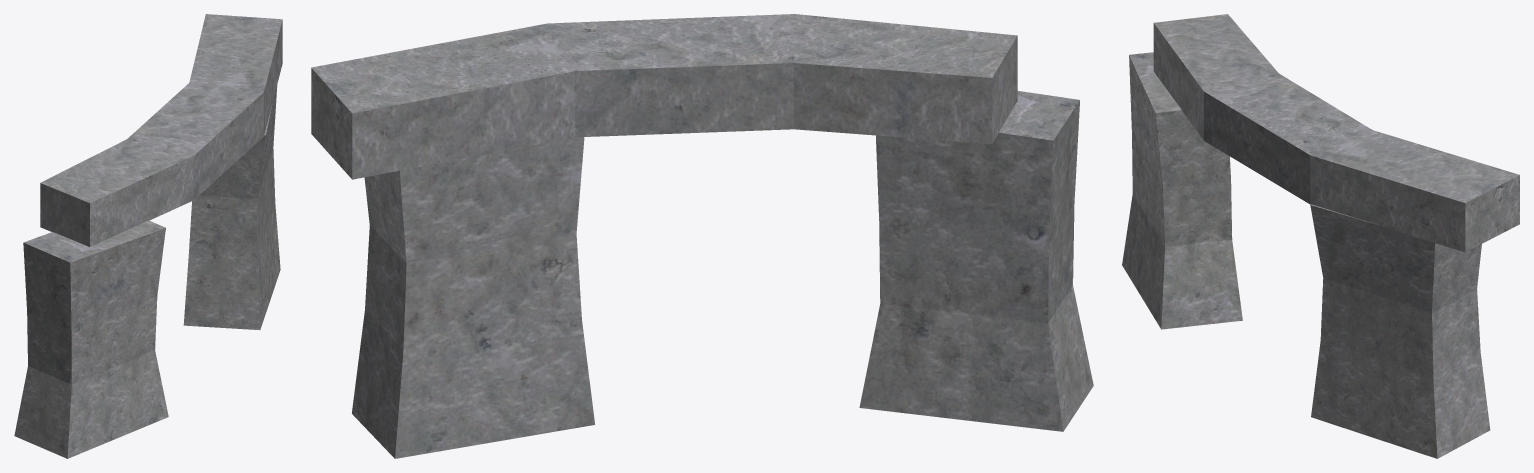
The model's file is ara-henge_04.fbx.
3 renders of one model, left to right at view 1: azimuth 30°, elevation 25°; view 2: azimuth 150°, elevation 25°; view 3: azimuth 270°, elevation 25°, orthographic. The views are drawn at different scales.
Parts seen in each view (by area): view 1: ara-henge_04; view 2: ara-henge_04; view 3: ara-henge_04.
Boxes of the visible parts, x1,y1,x2,y2 form: ara-henge_04: (14, 14, 282, 458); ara-henge_04: (311, 14, 1093, 458); ara-henge_04: (1122, 14, 1519, 458).
Size of the model in its own units: 415 by 244 by 333.
